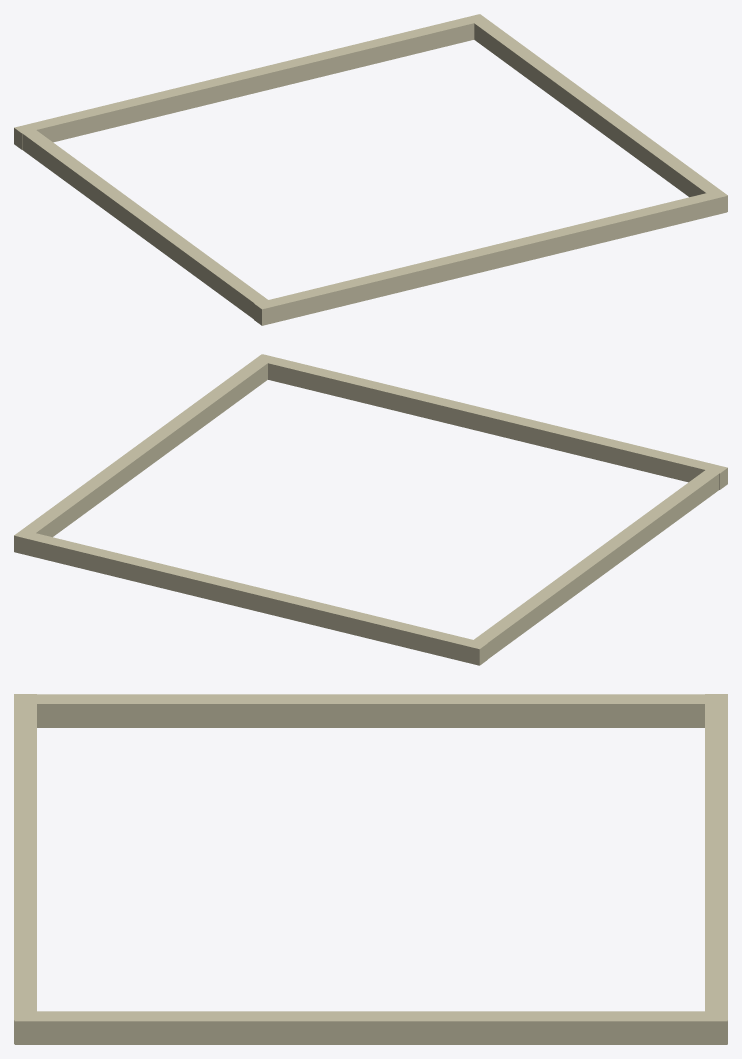
The model's file is Ceiling_3.fbx.
3 renders of one model, top to bottom at view 1: azimuth 30°, elevation 25°; view 2: azimuth 150°, elevation 25°; view 3: azimuth 270°, elevation 25°, orthographic. The views are drawn at different scales.
Visible parts, largest first — view 1: Ceiling_Deco_Square; view 2: Ceiling_Deco_Square; view 3: Ceiling_Deco_Square.
Boxes of the visible parts, x1=… form: Ceiling_Deco_Square: x1=14, y1=14, x2=727, y2=325; Ceiling_Deco_Square: x1=14, y1=354, x2=727, y2=665; Ceiling_Deco_Square: x1=14, y1=694, x2=727, y2=1044.
Bounding box in the file's own units: 1327 × 45.02 × 1224.
